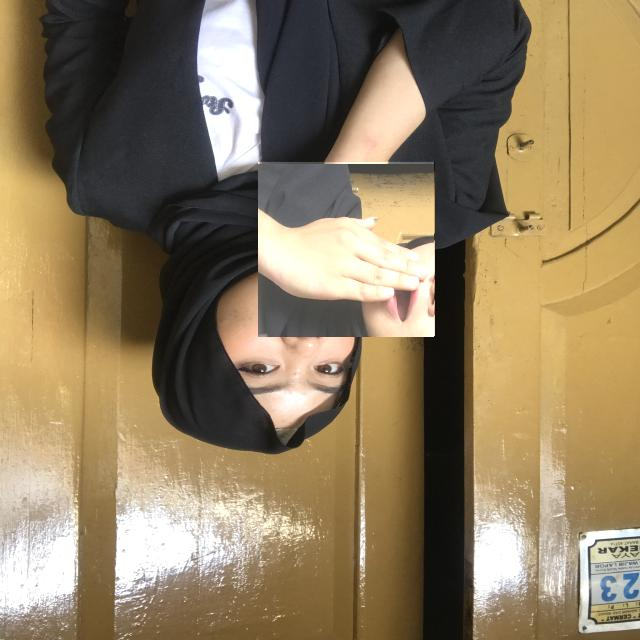ngantuk: (258, 160, 434, 337)
